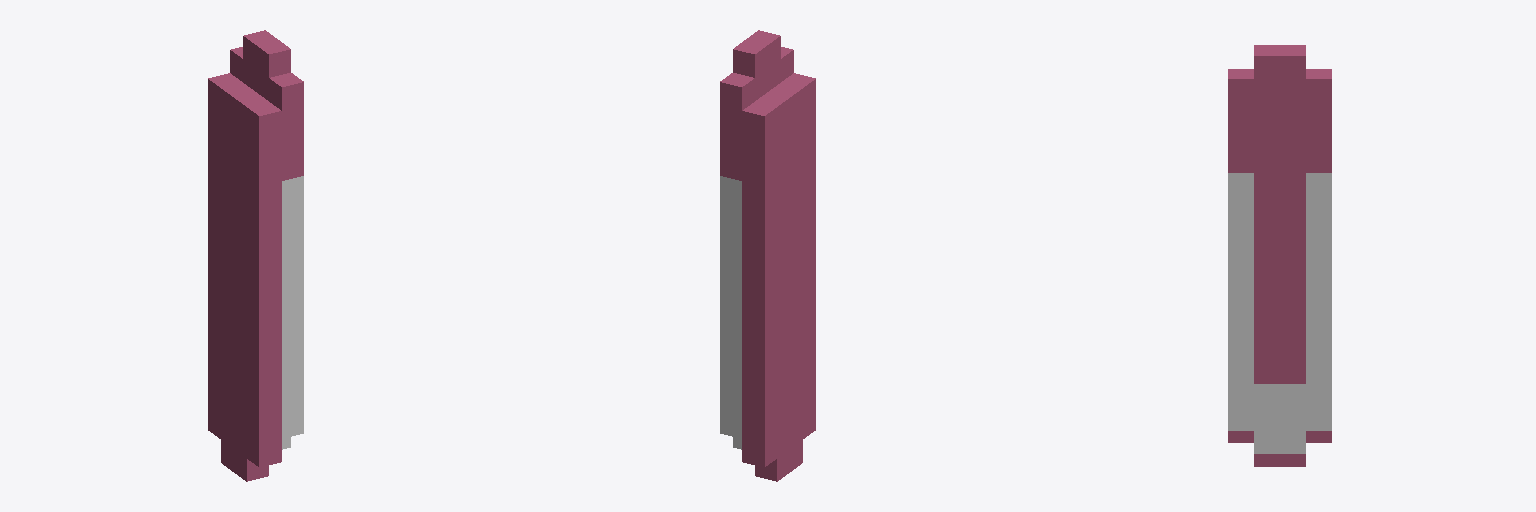
The picture shows the model from 3 angles: view 1: azimuth 30°, elevation 25°; view 2: azimuth 150°, elevation 25°; view 3: azimuth 270°, elevation 25°; orthographic projection.
Visible parts, largest first — view 1: object 1; view 2: object 1; view 3: object 1.
Boxes of the visible parts, x1,y1,x2,y2 form: object 1: [208, 30, 303, 481]; object 1: [720, 30, 815, 481]; object 1: [1228, 45, 1331, 466].
Bounding box in the file's own units: 0.2 × 1.8 × 0.4.
1 materials, 1 textured.